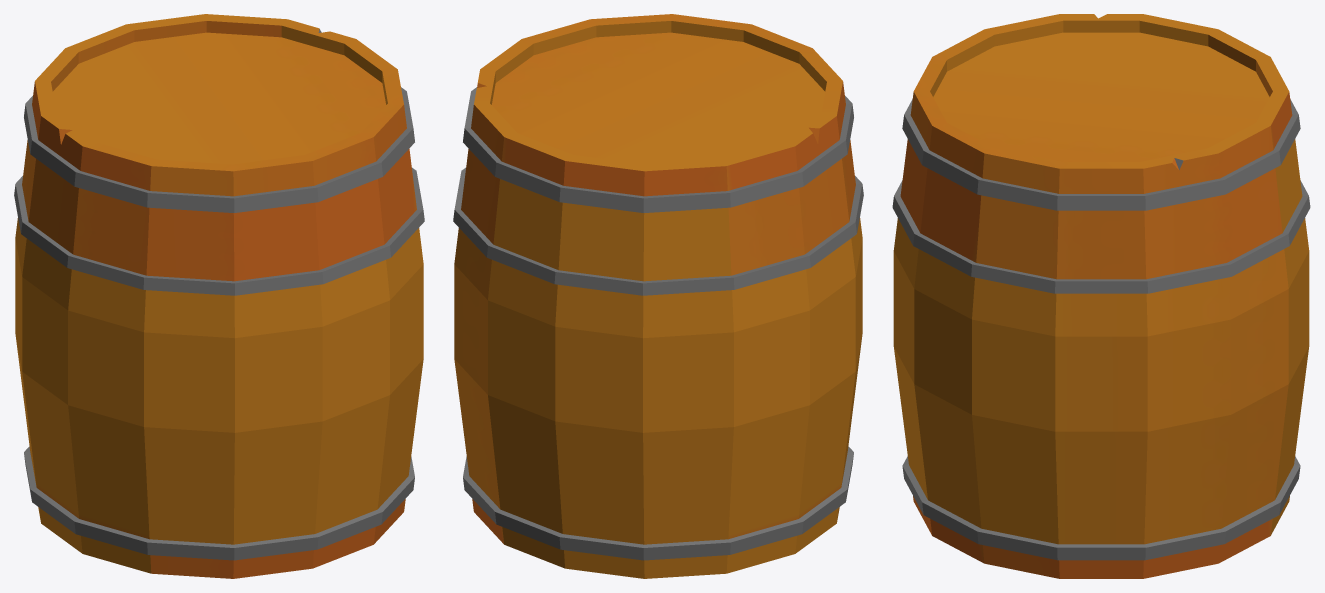
The model's file is barrel.gltf.
3 renders of one model, left to right at view 1: azimuth 30°, elevation 25°; view 2: azimuth 150°, elevation 25°; view 3: azimuth 270°, elevation 25°, orthographic.
Parts seen in each view (by area): view 1: Cylinder; view 2: Cylinder; view 3: Cylinder.
Part boxes in pixels (x1,y1,x2,y2): Cylinder: [14, 14, 424, 578]; Cylinder: [453, 14, 863, 578]; Cylinder: [892, 14, 1310, 578].
Size of the model in its own units: 1.8 by 2 by 1.85.
2 materials, 1 textured.
